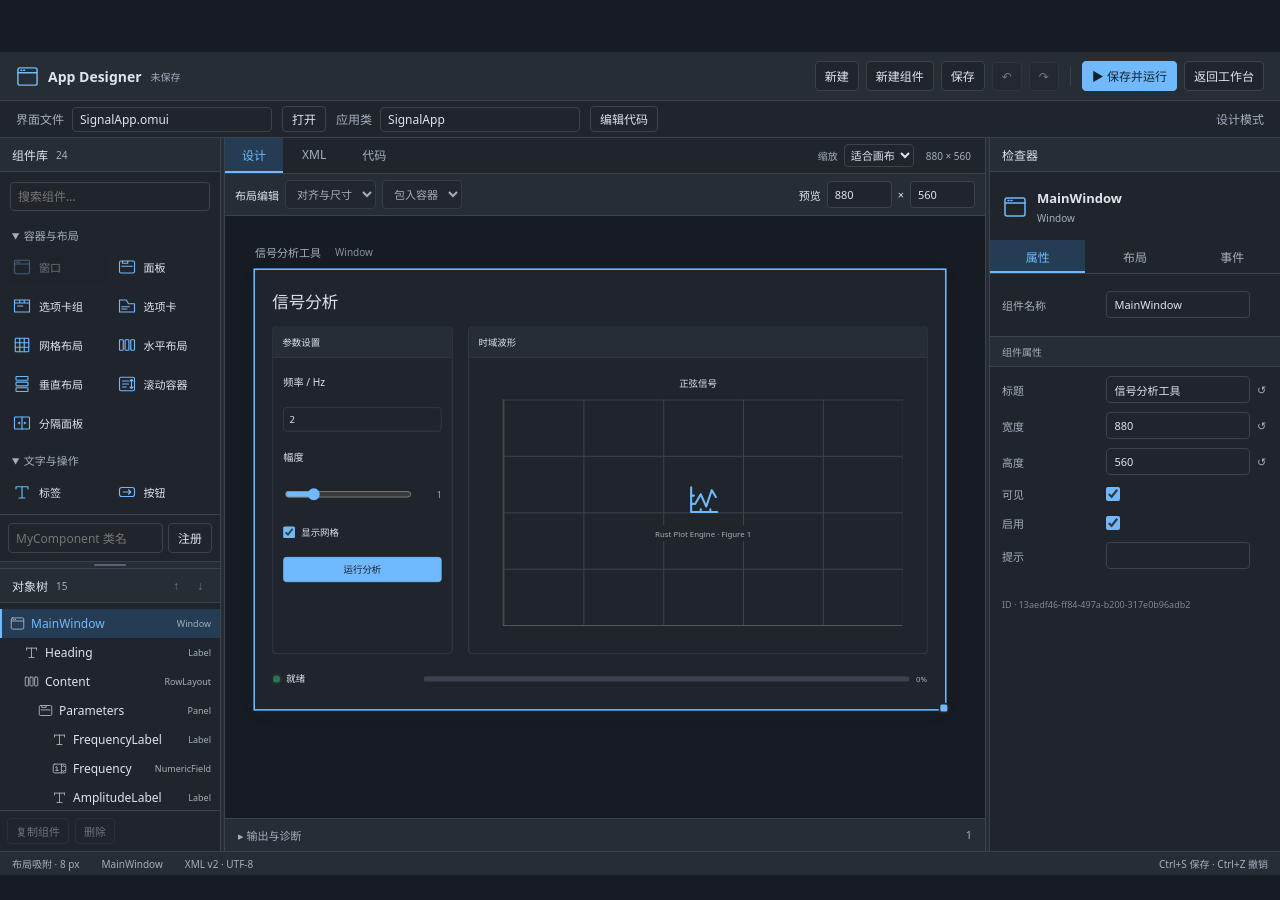
App Designer workbench › does not bypass shared source recovery conflicts when saving the design
The image size is (1280, 900).
Click the button "保存".
click(963, 76)  # box top-left (941, 61), bottom-right (985, 91)
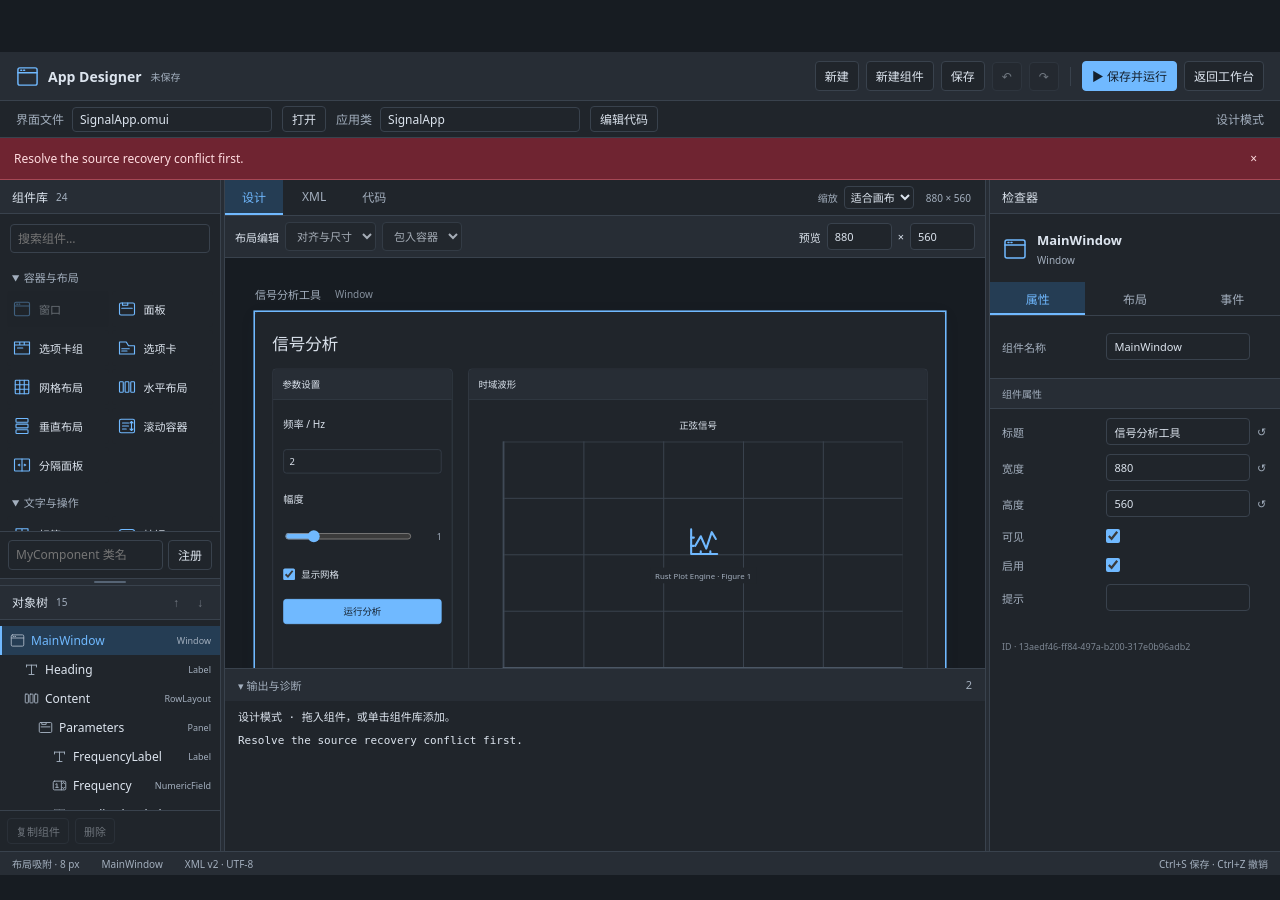
Expected: the message shows "Resolve the source recovery conflict first.", top-left (14, 150), bottom-right (244, 167)
